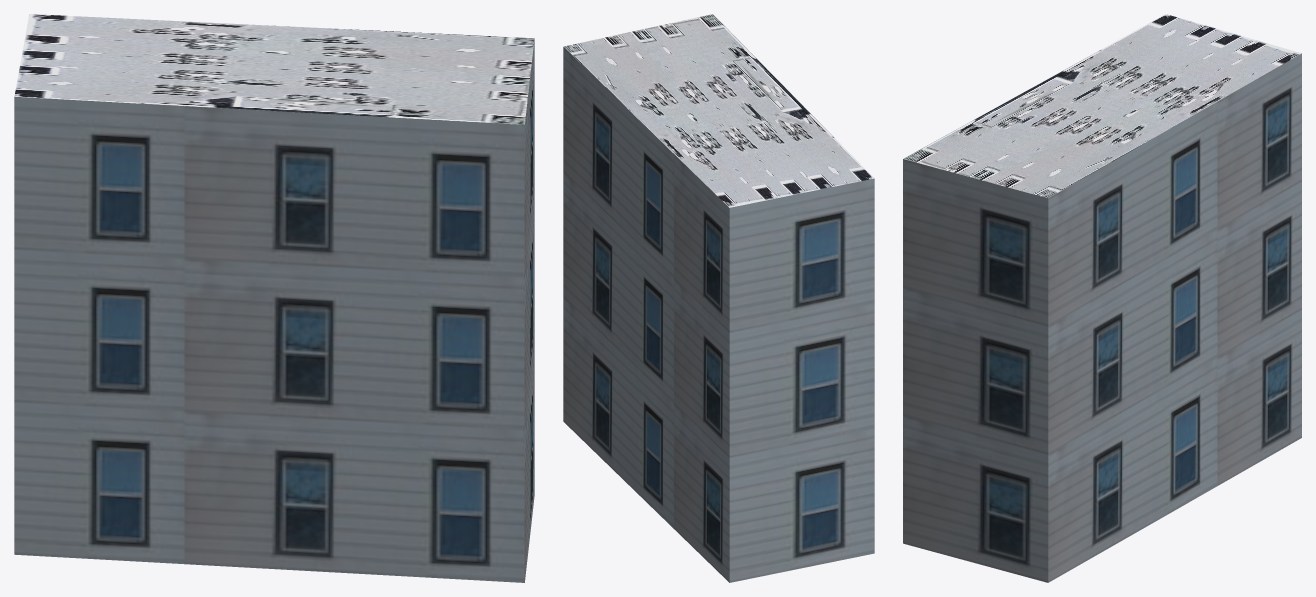
Rendered from ResTex__4259.fbx.
3 views of the same model, side by side, from view 1: azimuth 30°, elevation 25°; view 2: azimuth 150°, elevation 25°; view 3: azimuth 270°, elevation 25° (orthographic). The views are drawn at different scales.
Parts seen in each view (by area): view 1: CityEngineMaterial_18_m, CityEngineMaterial_m; view 2: CityEngineMaterial_18_m, CityEngineMaterial_m; view 3: CityEngineMaterial_18_m, CityEngineMaterial_m.
Part boxes in pixels (<box>): CityEngineMaterial_18_m: <box>14,39,534,582</box>; CityEngineMaterial_m: <box>14,14,534,124</box>; CityEngineMaterial_18_m: <box>563,47,874,582</box>; CityEngineMaterial_m: <box>564,14,874,207</box>; CityEngineMaterial_18_m: <box>903,53,1301,582</box>; CityEngineMaterial_m: <box>903,14,1301,198</box>.
Size of the model in its own units: 9.26 by 9 by 8.46.
Materials: 2 (2 with a texture image).
